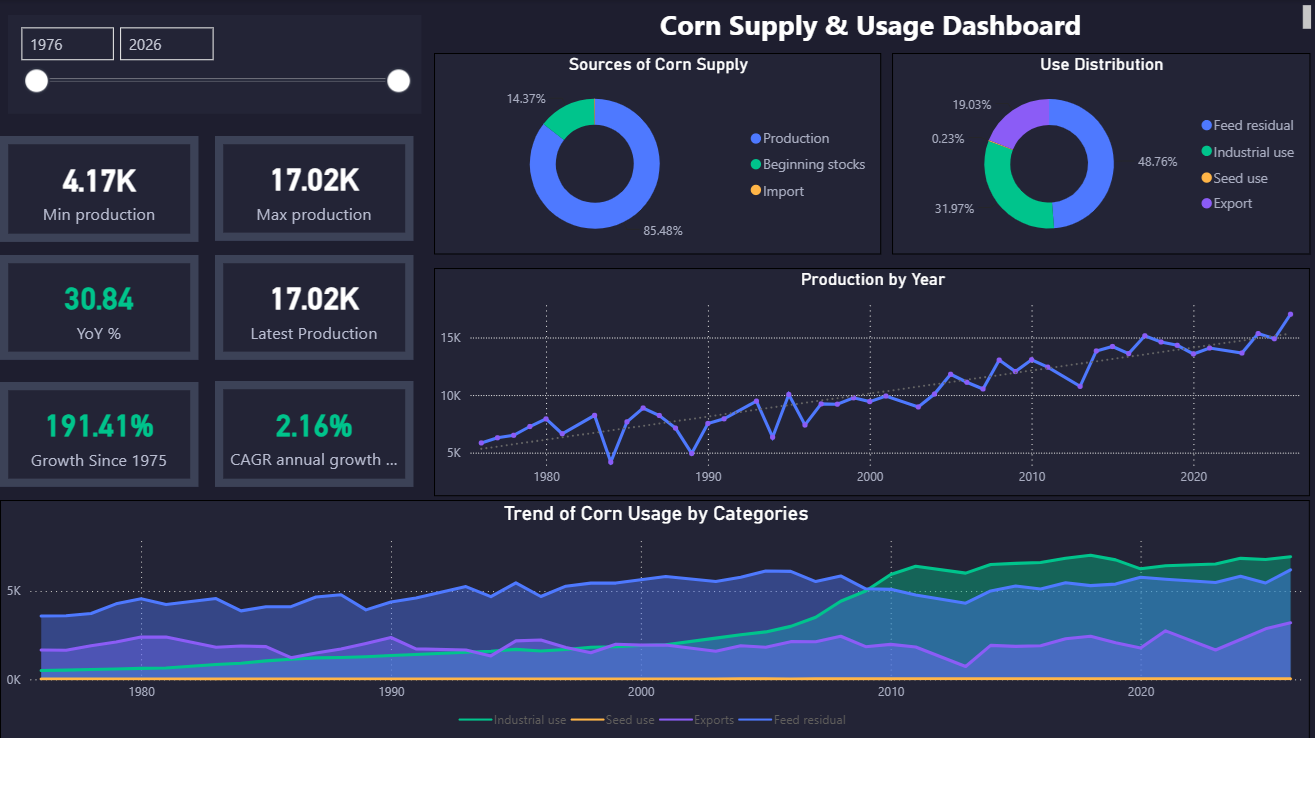

This screenshot's page, from the dashboard's own definition file:
{"tool":"powerbi","page":{"name":"Page 1","canvas":[1280,720],"ordinal":0},"visuals":[{"type":"card","fields":{"Values":["Min(corn_annual_summary.production)"]},"box":[0,132.3,192.6,103.1],"z":0},{"type":"card","fields":{"Values":["Max(corn_annual_summary.production)"]},"box":[209.1,132.3,192.6,102.1],"z":1000},{"type":"card","fields":{"Values":["corn_annual_summary.YoY %"]},"box":[0,248,192.6,102.1],"z":2000},{"type":"card","fields":{"Values":["corn_annual_summary.CAGR"]},"box":[209.1,370.6,192.6,103.1],"z":3000},{"type":"textbox","box":[422.1,0,857.9,44.7],"z":4000},{"type":"pieChart","title":"Sources of Corn Supply","fields":{"Y":["Sum(corn_annual_summary.production)","Sum(corn_annual_summary.beginning_stocks)","Sum(corn_annual_summary.imports)"]},"box":[422.1,51.6,434.8,196.5],"z":5000},{"type":"pieChart","title":"Use Distribution","fields":{"Y":["Sum(corn_annual_summary.feed_residual)","Sum(corn_annual_summary.industrial_use)","Sum(corn_annual_summary.seed_use)","Sum(corn_annual_summary.exports)"]},"box":[867.6,51.6,406.6,196.5],"z":6000},{"type":"lineChart","title":"Production by Year","fields":{"Y":["Sum(corn_annual_summary.production)"],"Category":["corn_annual_summary.ending_year"]},"box":[422.1,260.7,852,221.8],"z":7000},{"type":"areaChart","title":"Trend of Corn Usage by Categories","fields":{"Y":["Sum(corn_annual_summary.industrial_use)","Sum(corn_annual_summary.seed_use)","Sum(corn_annual_summary.exports)","Sum(corn_annual_summary.feed_residual)"],"Category":["corn_annual_summary.ending_year"]},"box":[0,486.3,1274.2,233.4],"z":8000},{"type":"slicer","fields":{"Values":["corn_annual_summary.ending_year"]},"box":[7.8,14.6,401.7,96.3],"z":9000},{"type":"card","fields":{"Values":["corn_annual_summary.Production Growth Since 1975 (%)"]},"box":[0,371.6,192.6,102.1],"z":10000},{"type":"card","fields":{"Values":["corn_annual_summary.Latest Production Selected"]},"box":[209.1,248,192.6,102.1],"z":11000}]}

Visuals, with their boxes on the page's 1280x720 design canvas (x1, y1, x2, y2). These are canvas units, not pixel positions in the 1315x800 screenshot, which may show the page scaled, cropped or inside an application window:
card - Min(corn_annual_summary.production): [0, 132, 193, 235]
card - Max(corn_annual_summary.production): [209, 132, 402, 234]
card - corn_annual_summary.YoY %: [0, 248, 193, 350]
card - corn_annual_summary.CAGR: [209, 371, 402, 474]
textbox: [422, 0, 1280, 45]
"Sources of Corn Supply" pieChart: [422, 52, 857, 248]
"Use Distribution" pieChart: [868, 52, 1274, 248]
"Production by Year" lineChart: [422, 261, 1274, 482]
"Trend of Corn Usage by Categories" areaChart: [0, 486, 1274, 720]
slicer - corn_annual_summary.ending_year: [8, 15, 410, 111]
card - corn_annual_summary.Production Growth Since 1975 (%): [0, 372, 193, 474]
card - corn_annual_summary.Latest Production Selected: [209, 248, 402, 350]
